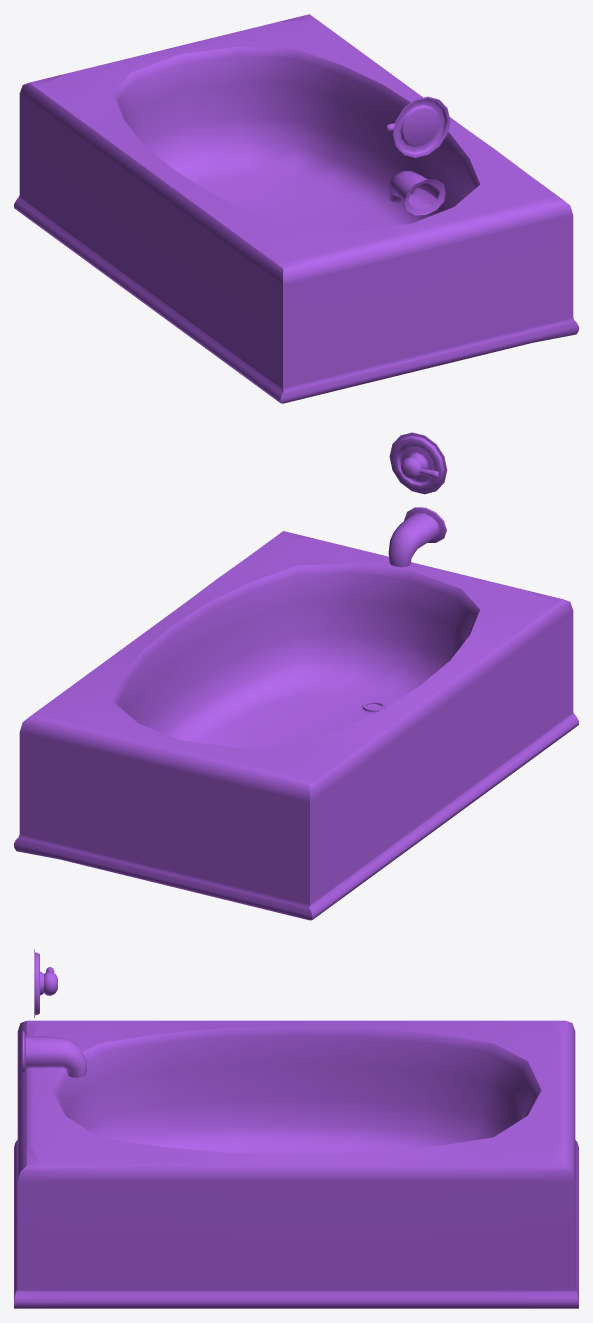
File: Friday_Tub.fbx
3 views of the same model, one above another, from view 1: azimuth 30°, elevation 25°; view 2: azimuth 150°, elevation 25°; view 3: azimuth 270°, elevation 25° (orthographic). The views are drawn at different scales.
Parts seen in each view (by area): view 1: Tub, Thing, pCylinder2; view 2: Tub, pCylinder2, Thing, On; view 3: Tub, pCylinder2.
Boxes of the visible parts, x1,y1,x2,y2 form: Tub: [14, 14, 578, 403]; Thing: [392, 96, 450, 158]; pCylinder2: [388, 171, 446, 215]; Tub: [14, 531, 578, 920]; pCylinder2: [388, 507, 446, 567]; Thing: [389, 432, 447, 494]; On: [401, 446, 434, 481]; Tub: [14, 1020, 578, 1308]; pCylinder2: [22, 1031, 86, 1077].
Bounding box in the file's own units: 72.6 × 61.5 × 112.
